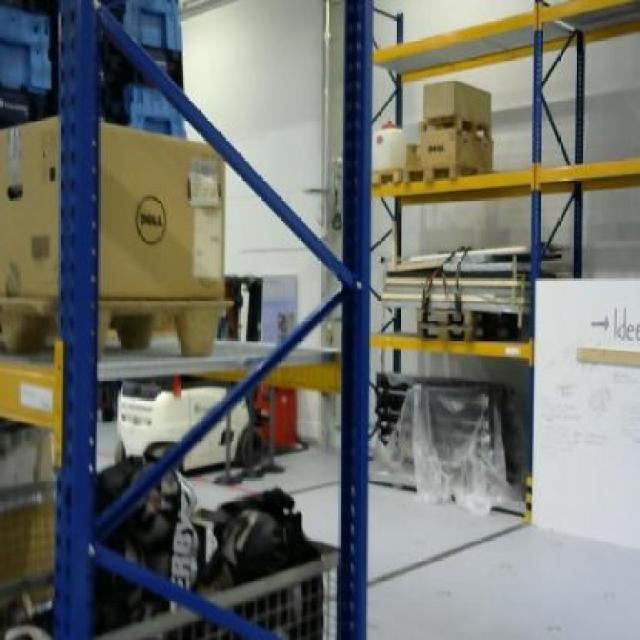box: (8, 120, 228, 294), (421, 77, 492, 128), (418, 126, 496, 169)
